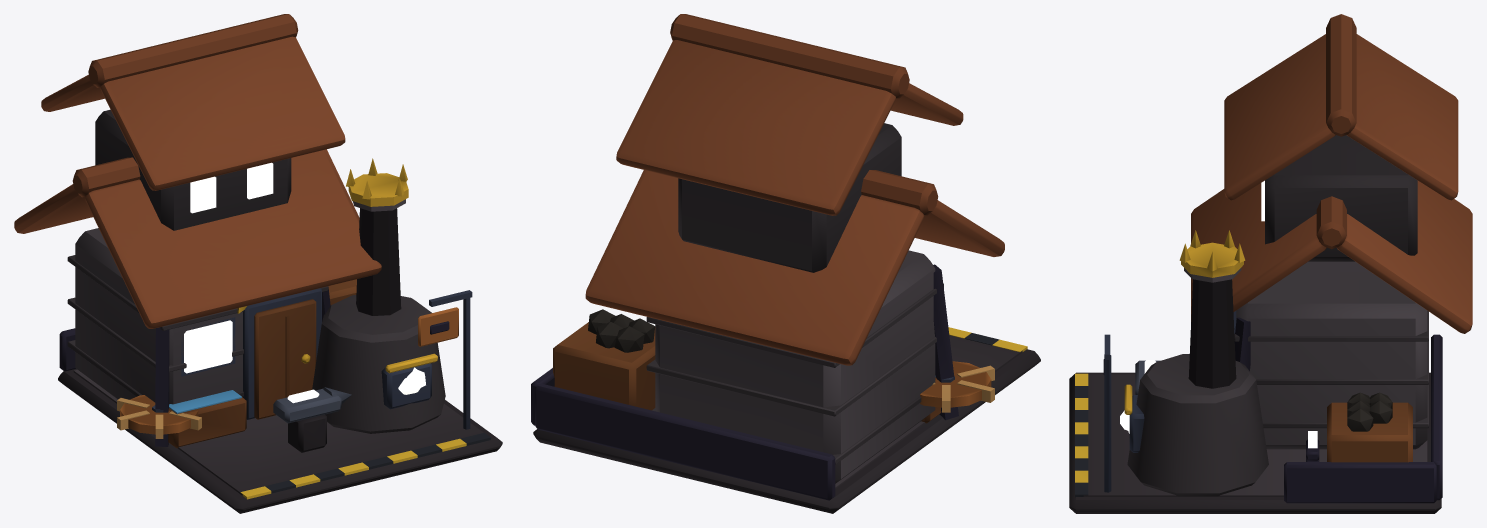
File: o_special_vulkan.glb
3 views of the same model, side by side, from view 1: azimuth 30°, elevation 25°; view 2: azimuth 150°, elevation 25°; view 3: azimuth 270°, elevation 25° (orthographic). The views are drawn at different scales.
Parts seen in each view (by area): view 1: body, lv3_upper, lv5_gold, win_glow, spin_wheel, lv4_armor, lv3_win_glow, sway_sign; view 2: body, lv3_upper, lv4_armor, lv2_annex, spin_wheel; view 3: body, lv3_upper, lv4_armor, lv2_annex, lv5_gold.
Part boxes in pixels (x1,y1,x2,y2): body: [14, 149, 502, 513]; lv3_upper: [41, 14, 345, 230]; lv5_gold: [237, 158, 437, 373]; win_glow: [184, 320, 319, 403]; spin_wheel: [117, 395, 201, 438]; lv4_armor: [59, 287, 330, 446]; lv3_win_glow: [190, 162, 273, 213]; sway_sign: [418, 307, 458, 346]; body: [533, 170, 1040, 513]; lv3_upper: [616, 14, 963, 272]; lv4_armor: [531, 264, 958, 500]; lv2_annex: [553, 309, 655, 410]; spin_wheel: [920, 361, 994, 412]; body: [1069, 180, 1472, 513]; lv3_upper: [1224, 14, 1458, 261]; lv4_armor: [1234, 317, 1442, 503]; lv2_annex: [1306, 392, 1412, 462]; lv5_gold: [1124, 230, 1245, 414].
Size of the model in its own units: 3.78 by 4.24 by 4.23.
